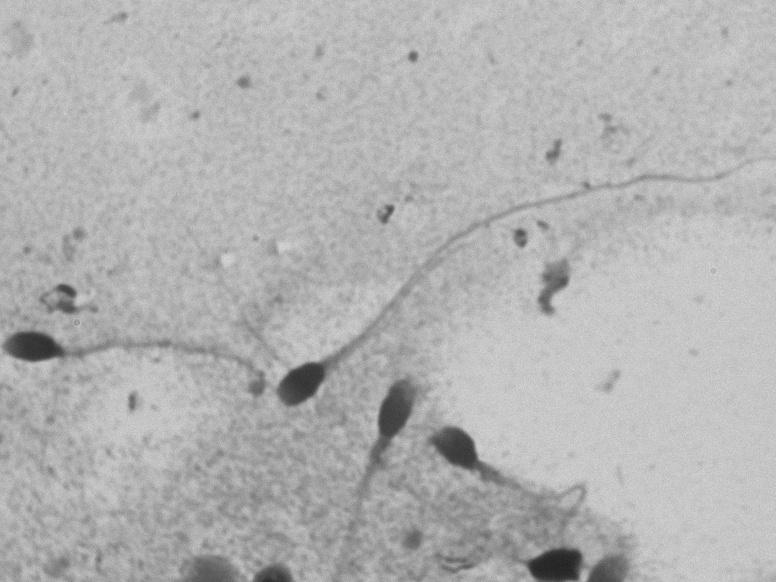Abnormal: (2, 290, 247, 425), (331, 371, 431, 536)
Normal: (261, 132, 767, 424)
